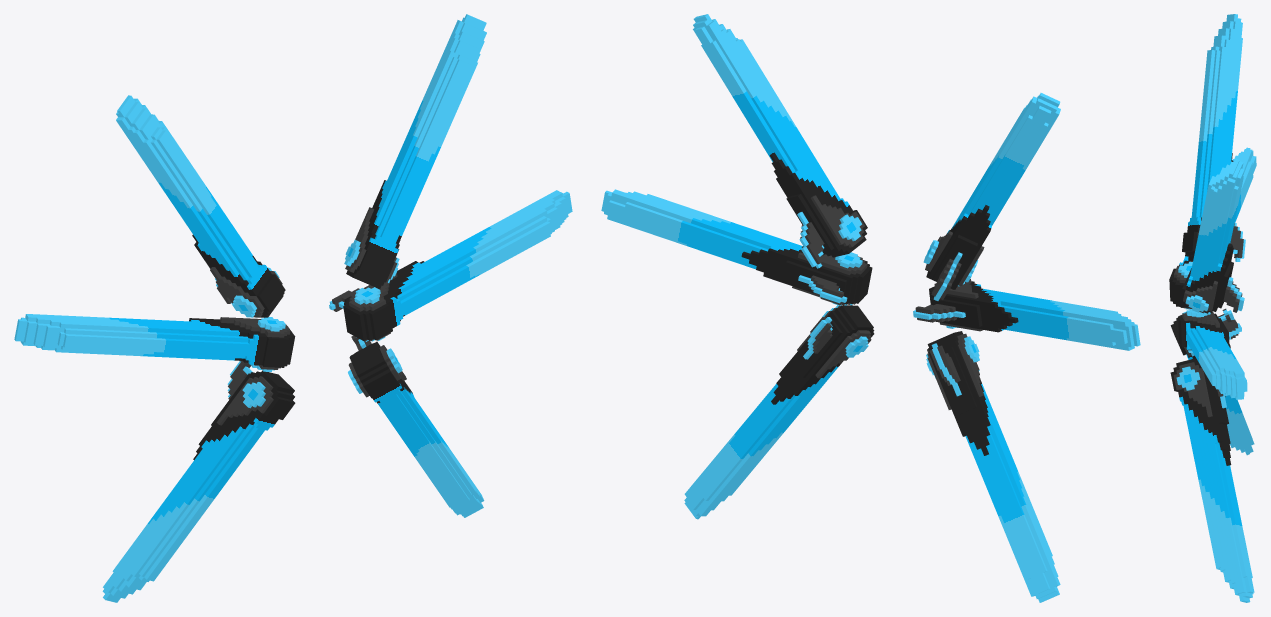
Rendered from 混沌羽翼.gltf.
3 views of the same model, side by side, from view 1: azimuth 30°, elevation 25°; view 2: azimuth 150°, elevation 25°; view 3: azimuth 270°, elevation 25° (orthographic). The views are drawn at different scales.
Visible parts, largest first — view 1: Object (×6); view 2: Object (×6); view 3: Object (×6).
Part boxes in pixels (x1,y1,x2,y2): Object (×6): (14, 14, 572, 602); Object (×6): (601, 14, 1140, 602); Object (×6): (1169, 14, 1256, 602).
Size of the model in its own units: 144 by 128 by 22.74.
1 material, 1 textured.
